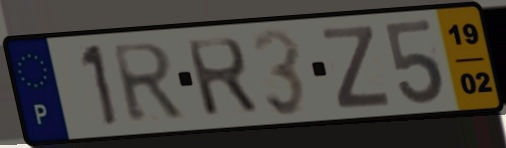1: (78, 41, 121, 131)
3: (250, 26, 311, 119)
5: (384, 16, 448, 107)
R: (182, 34, 262, 119), (108, 40, 187, 126)
Z: (319, 23, 393, 112)
